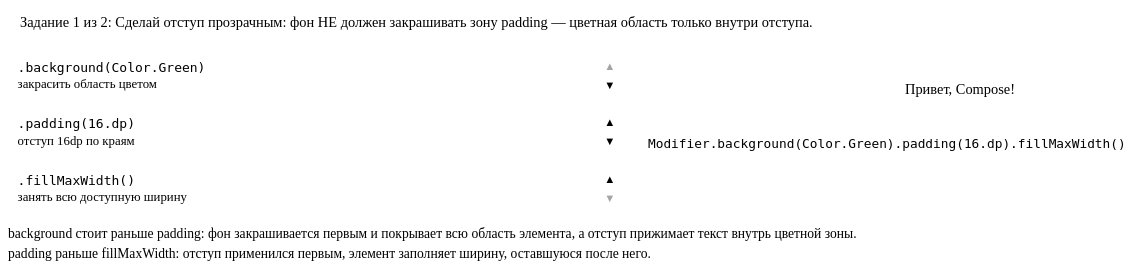
Test: completing both tasks shows done banner, marks trainer and awards xp
The width and height of the screenshot is (1140, 278).
What coordinates should you click on to do the following:
click the button named "выше: .padding(16.dp)"
I would click on:
 (610, 123)
Its box is [597,115,622,131].
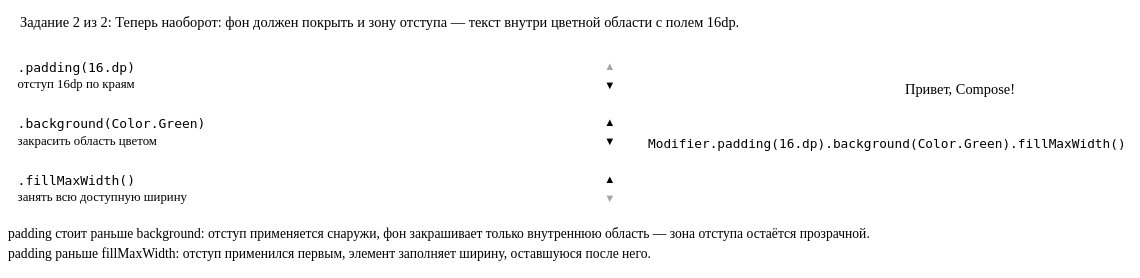
What coordinates should you click on to do the following:
click the button named "выше: .background(Color.Green)"
I would click on:
 (610, 123)
Its box is [597,115,622,131].
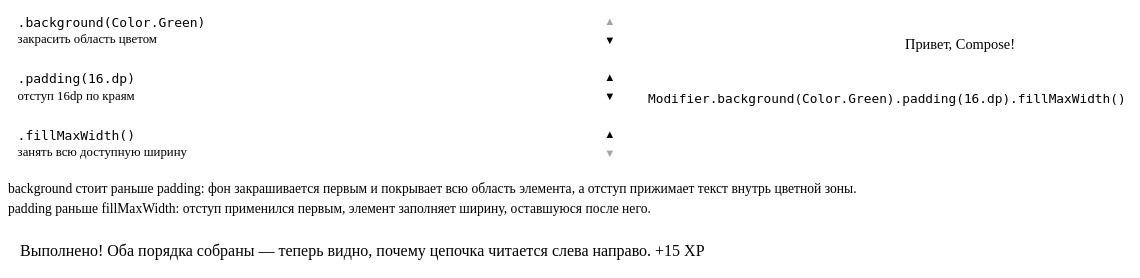
Now the text "Выполнено!" is shown, box [20,242,651,259]
